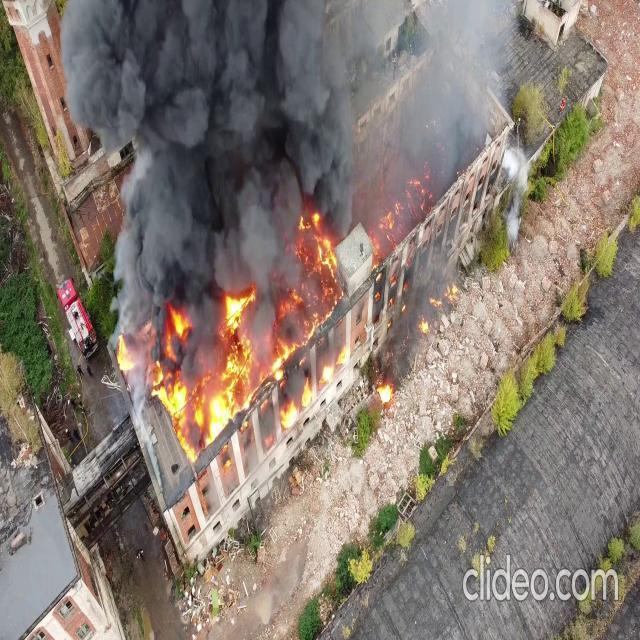Fire: (142, 284, 329, 464), (296, 207, 350, 313), (371, 375, 396, 409), (115, 328, 133, 374)
Smoke: (68, 0, 339, 313), (318, 0, 490, 228), (503, 146, 531, 248)
